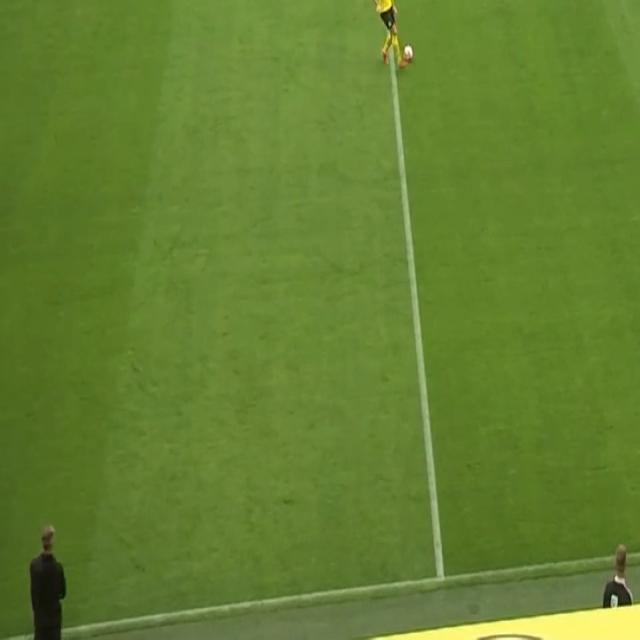ball: (402, 42, 414, 65)
